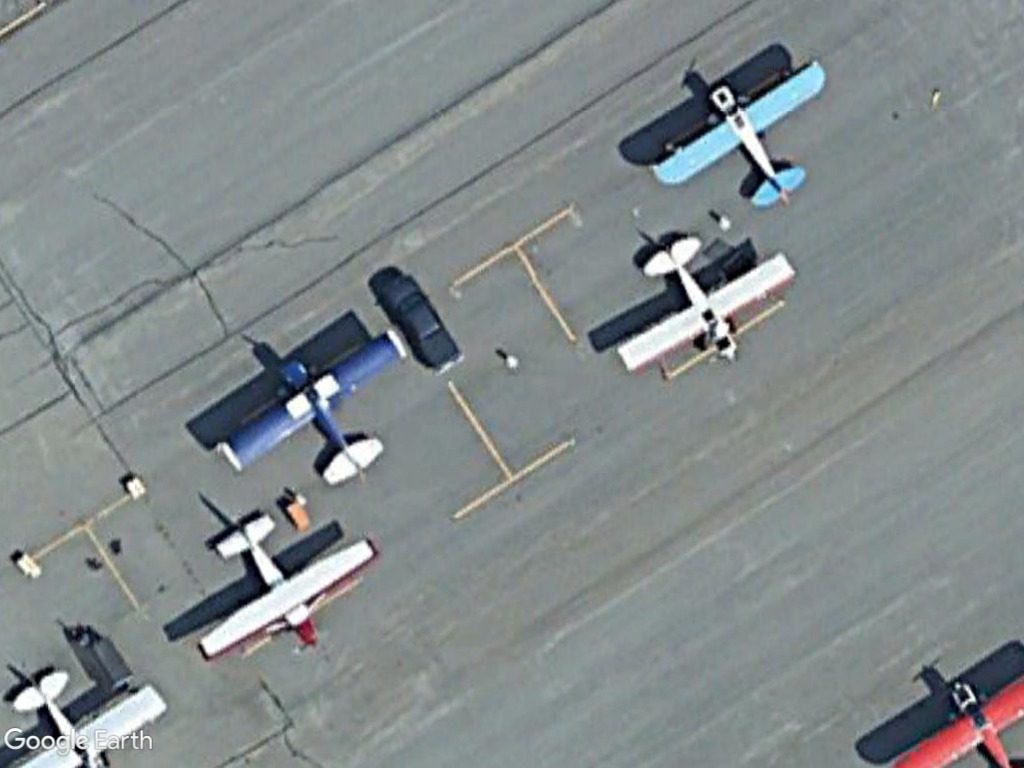car: (380, 273, 462, 378)
trainer: (197, 326, 419, 494), (606, 225, 799, 387), (196, 508, 381, 677), (649, 55, 829, 211)
